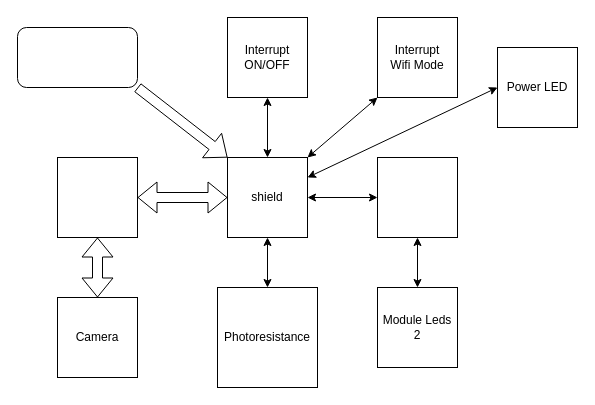
The diagram is 595 pixels wide and 405 high, and some of its shapes have lost their labels. Here are the shapes that lost their labels. From the top down, the box of each, then its label:
(16, 26, 138, 88): 5V power
(56, 156, 138, 238): Raspberry Pi
(376, 156, 458, 238): Module Leds 1
